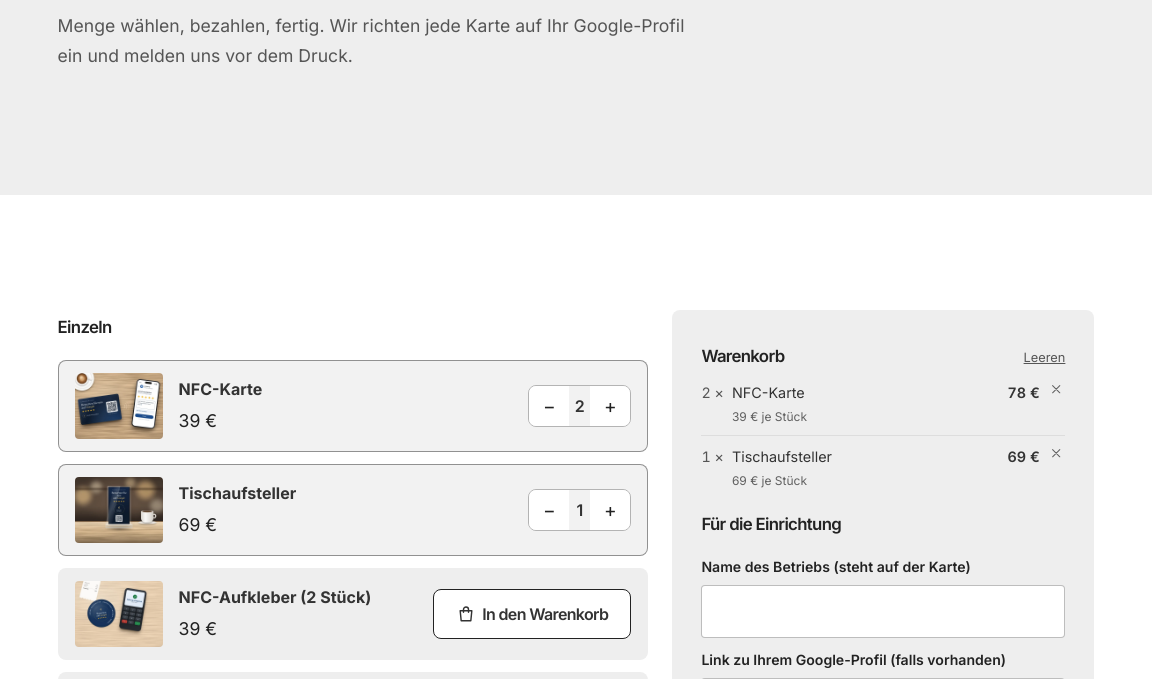
Scenario: ShopComponent › Warenkorb auf der Seite › leert den ganzen Korb
The width and height of the screenshot is (1152, 679).
(page scrolled)
Click the button with class "cart-clear".
click(1044, 358)  # box [1024,347,1065,368]
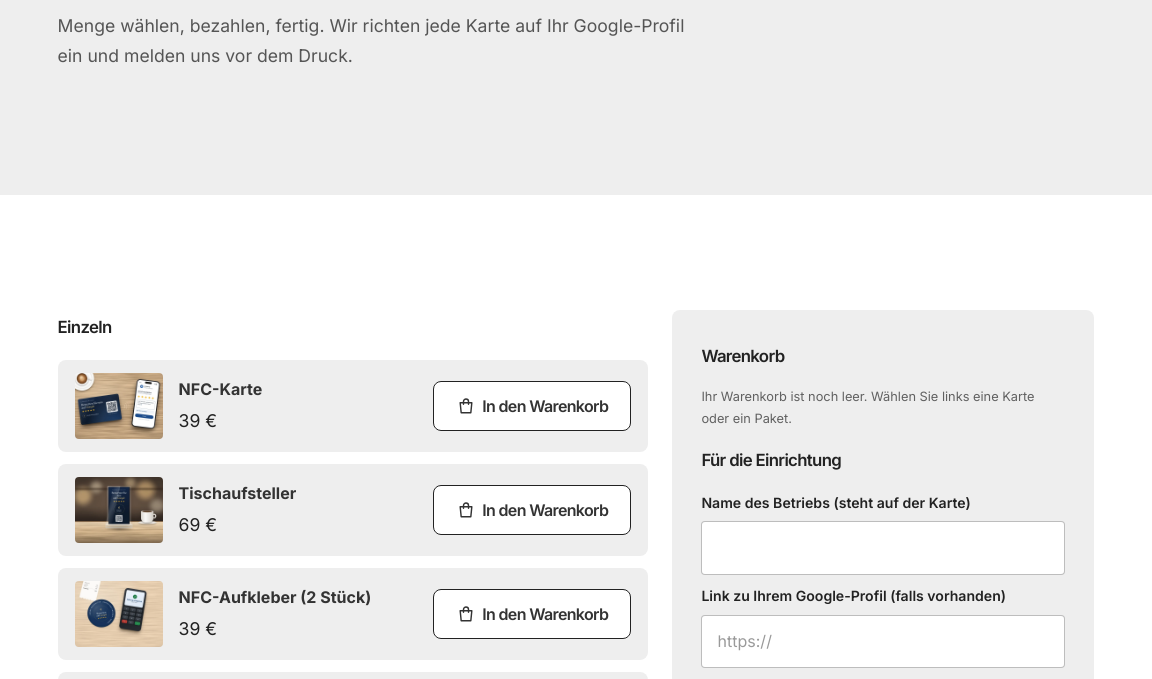
Check: the text with class "cart-empty" is shown, box [701,380,1065,434]
